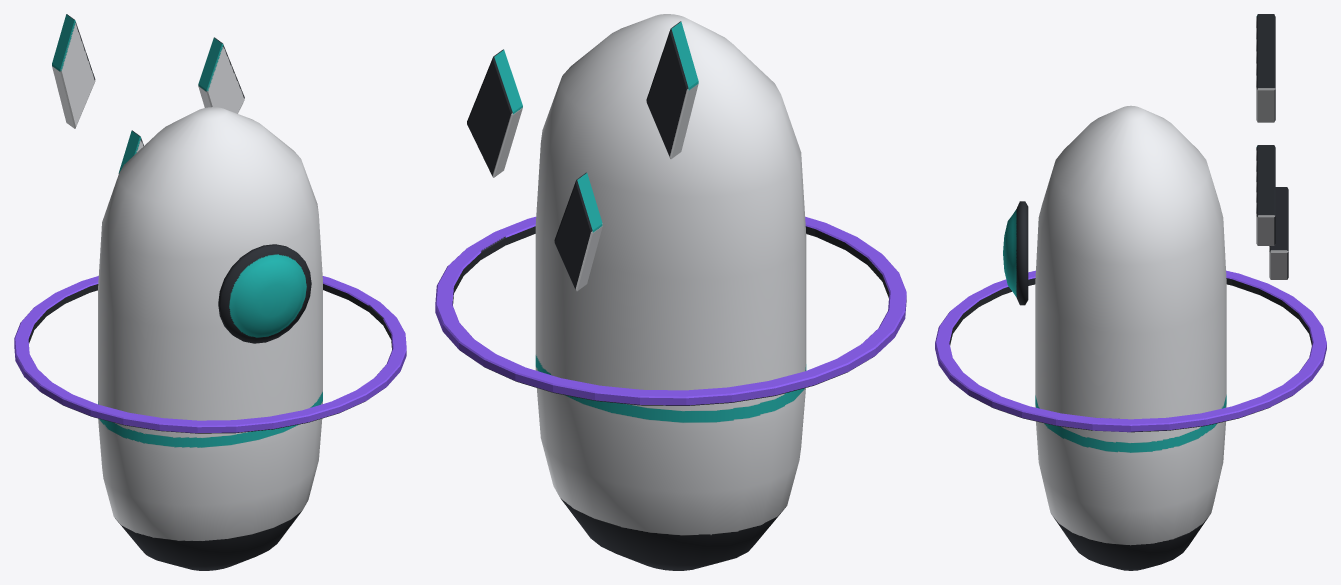
Rendered from Illusion_Bot.fbx.
3 renders of one model, left to right at view 1: azimuth 30°, elevation 25°; view 2: azimuth 150°, elevation 25°; view 3: azimuth 270°, elevation 25°, orthographic. The views are drawn at different scales.
Parts seen in each view (by area): view 1: Bot_Body, Bot_Ring, Bot_Eye, Bot_Shard_1, Bot_Shard_2; view 2: Bot_Body, Bot_Ring, Bot_Shard_1, Bot_Shard_2, Bot_Shard_3; view 3: Bot_Body, Bot_Ring, Bot_Shard_1, Bot_Eye, Bot_Shard_2, Bot_Shard_3.
Part boxes in pixels (x1,y1,x2,y2): Bot_Body: [98, 107, 322, 570]; Bot_Ring: [14, 276, 406, 433]; Bot_Eye: [218, 244, 311, 343]; Bot_Shard_1: [52, 14, 95, 128]; Bot_Shard_2: [198, 37, 244, 113]; Bot_Body: [535, 14, 806, 570]; Bot_Ring: [435, 216, 906, 405]; Bot_Shard_1: [646, 21, 698, 158]; Bot_Shard_2: [467, 49, 522, 177]; Bot_Shard_3: [554, 172, 602, 291]; Bot_Body: [1035, 105, 1226, 570]; Bot_Ring: [935, 270, 1326, 432]; Bot_Shard_1: [1256, 14, 1275, 122]; Bot_Eye: [1003, 201, 1028, 305]; Bot_Shard_2: [1256, 145, 1275, 245]; Bot_Shard_3: [1269, 187, 1288, 279].
Bounding box in the file's own units: 0.9 × 1.3 × 0.9.
Materials: 1 (1 with a texture image).
